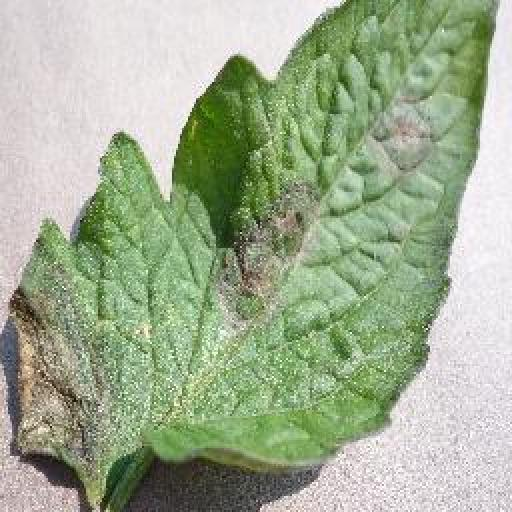disease_tomato: (4, 0, 501, 483)
